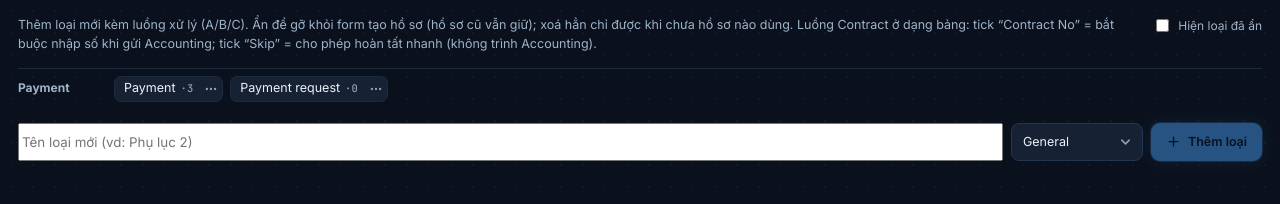
it: AdminDocTypes › offers Delete only when the type is unused
The width and height of the screenshot is (1280, 204).
Click the button named "Thao tác cho Payment".
click(208, 88)  # box x1=198 y1=78 x2=218 y2=98
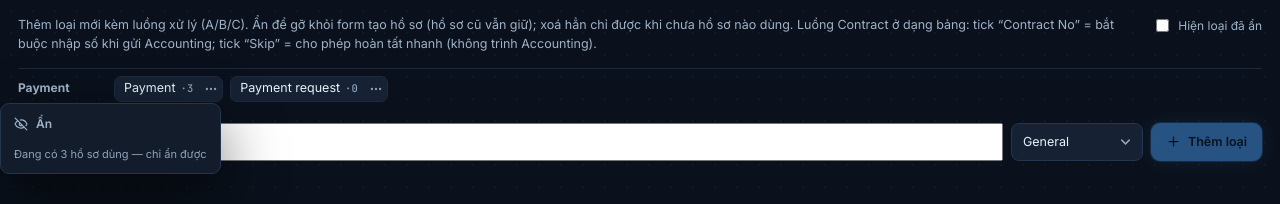
Expected: the menu item "Xoá" is not shown
Expected: the text "Đang có 3 hồ sơ dùng — chỉ ẩn được" is shown, x1=14 y1=147 x2=206 y2=161
Press Escape
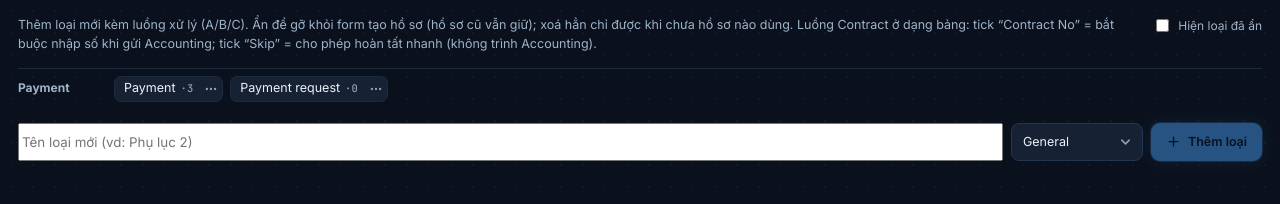
Click the button named "Thao tác cho Payment request".
click(373, 88)  # box x1=363 y1=78 x2=383 y2=98
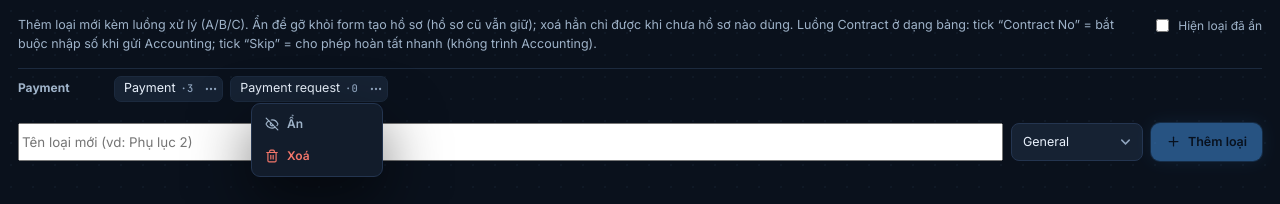
Expected: the menu item "Xoá" is shown, x1=265 y1=148 x2=310 y2=163
